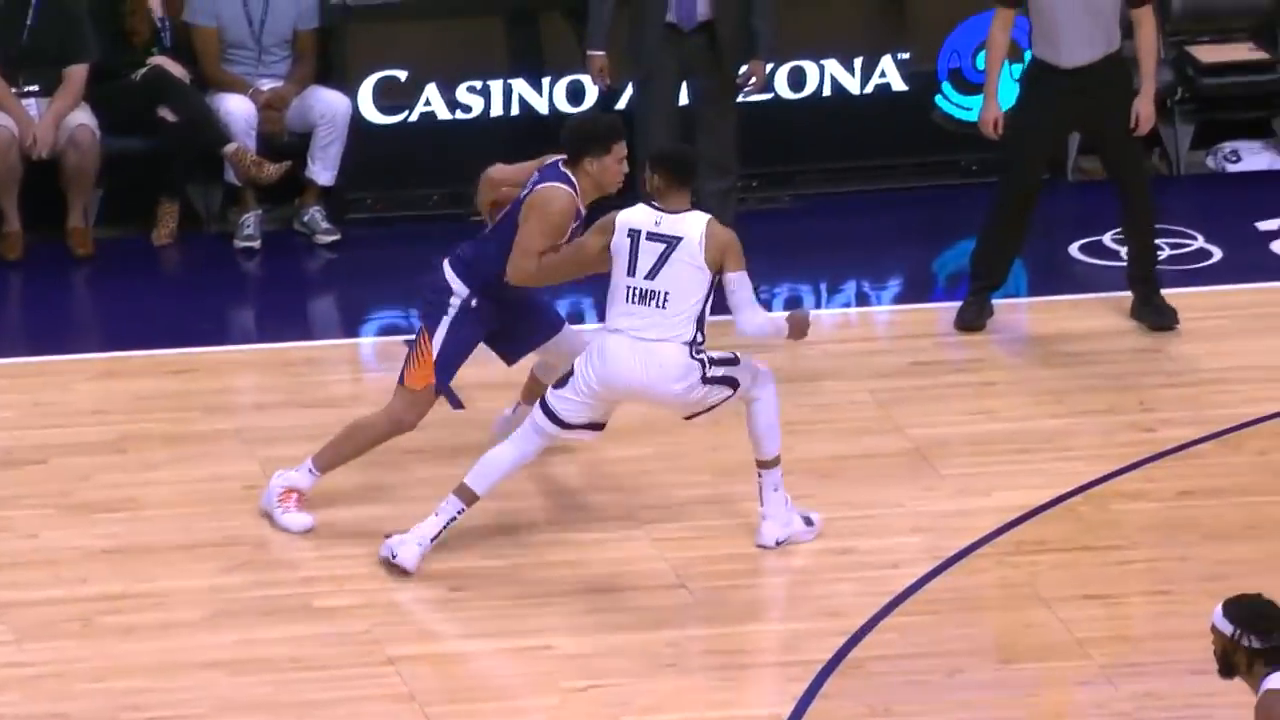ball: (492, 188, 526, 221)
